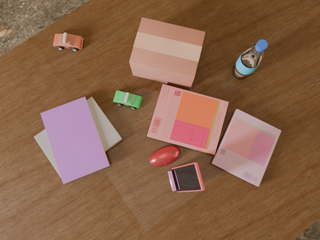book: (34, 97, 123, 177), (41, 97, 110, 184), (147, 84, 229, 155), (211, 109, 281, 186)
bottle: (232, 40, 268, 79)
box: (129, 17, 205, 89)
mouse: (149, 146, 180, 167)
phone: (172, 162, 205, 192)
toy_car: (113, 90, 143, 109), (53, 33, 84, 51)
